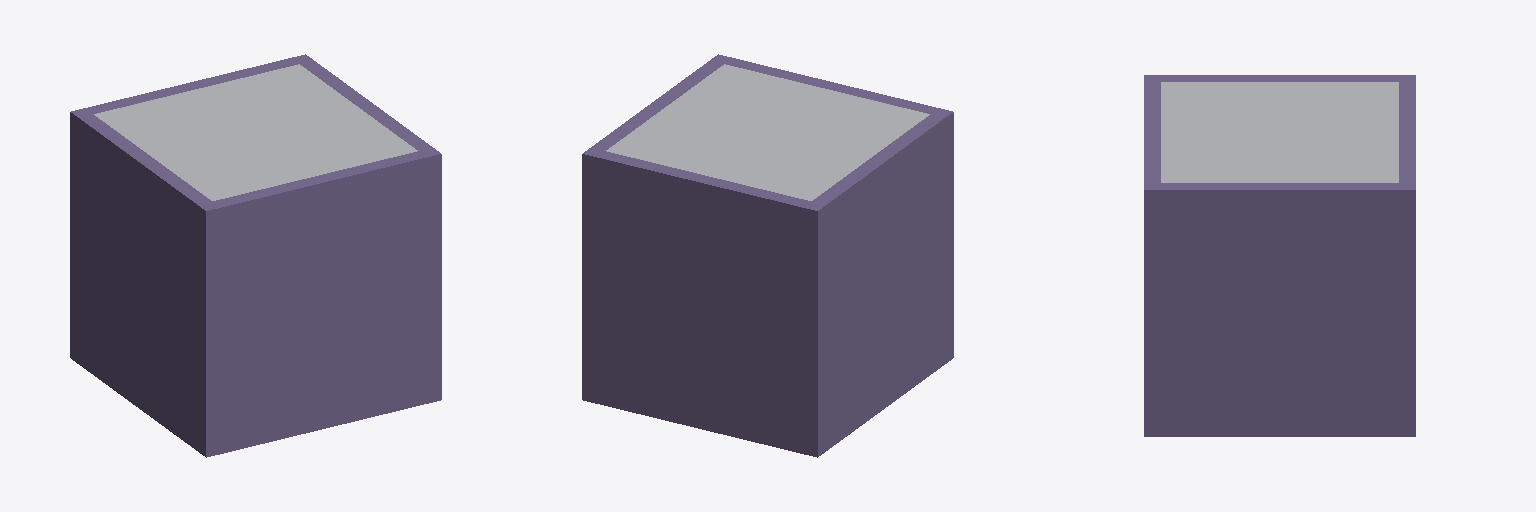
3 renders of one model, left to right at view 1: azimuth 30°, elevation 25°; view 2: azimuth 150°, elevation 25°; view 3: azimuth 270°, elevation 25°, orthographic.
Parts seen in each view (by area): view 1: tile_concrete_0; view 2: tile_concrete_0; view 3: tile_concrete_0.
Boxes of the visible parts, x1=… form: tile_concrete_0: x1=70, y1=54, x2=441, y2=457; tile_concrete_0: x1=582, y1=54, x2=953, y2=457; tile_concrete_0: x1=1144, y1=75, x2=1415, y2=436.
Size of the model in its own units: 1 by 1 by 1.
1 materials, 1 textured.